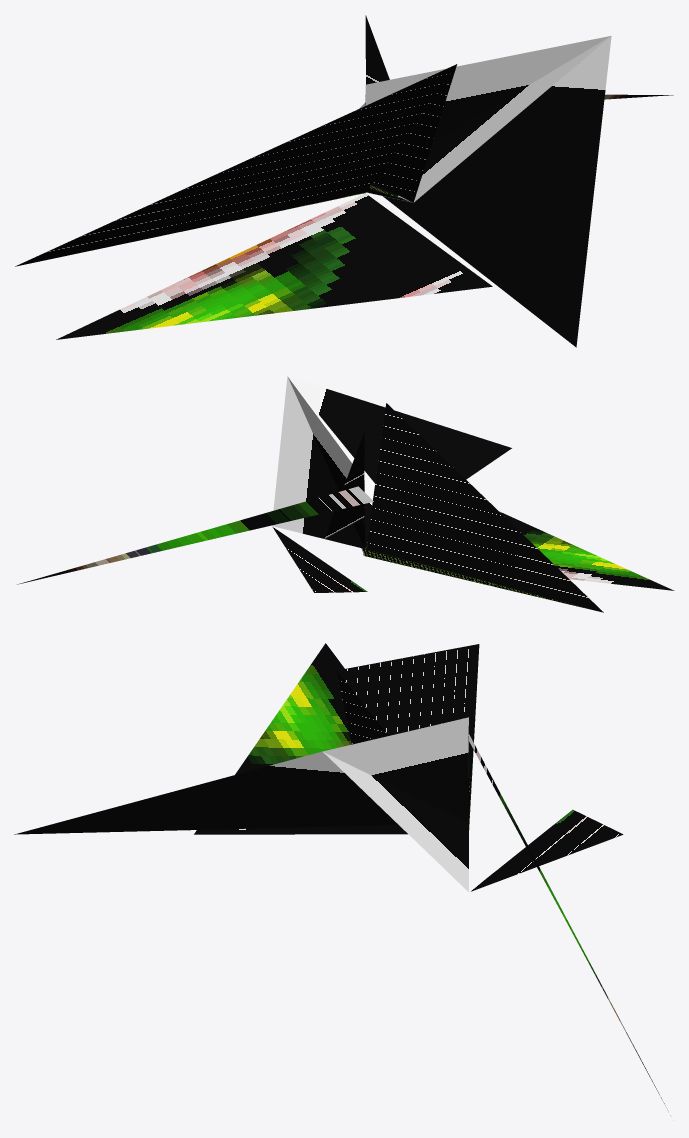
The model's file is assets0C_model_002.obj.
3 views of the same model, one above another, from view 1: azimuth 30°, elevation 25°; view 2: azimuth 150°, elevation 25°; view 3: azimuth 270°, elevation 25° (orthographic). The views are drawn at different scales.
Parts seen in each view (by area): view 1: assets0C_model_002; view 2: assets0C_model_002; view 3: assets0C_model_002.
Boxes of the visible parts, x1,y1,x2,y2 form: assets0C_model_002: (15,15,673,347); assets0C_model_002: (17,376,674,612); assets0C_model_002: (14,643,670,1115).
Bounding box in the file's own units: 75.25 × 22.96 × 51.1.
1 material, 1 textured.
